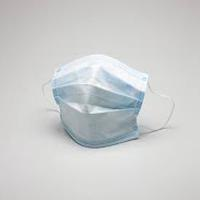flu mask: (49, 52, 177, 148)
